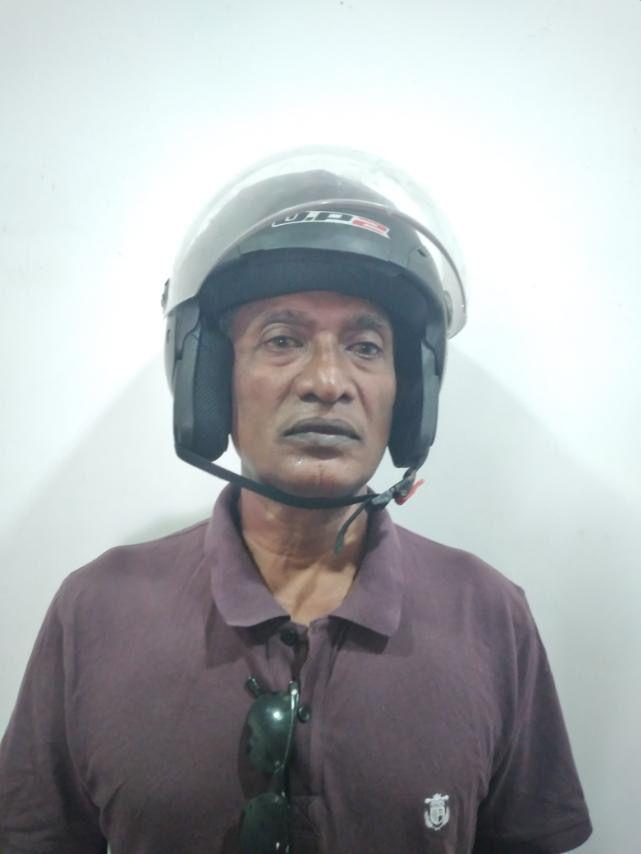helmet: (157, 145, 468, 512)
